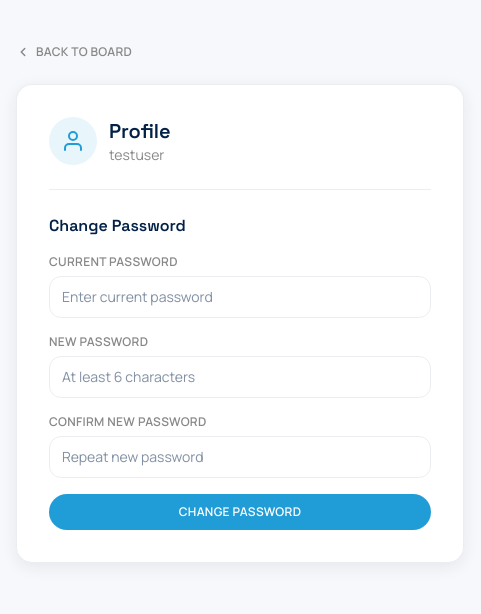
ProfilePage › shows error when new password is too short
This screenshot has width=481, height=614.
Step 1. Type "oldpass" into the password field with test id "current-password-input" → (240, 296), box [49,276,431,318]
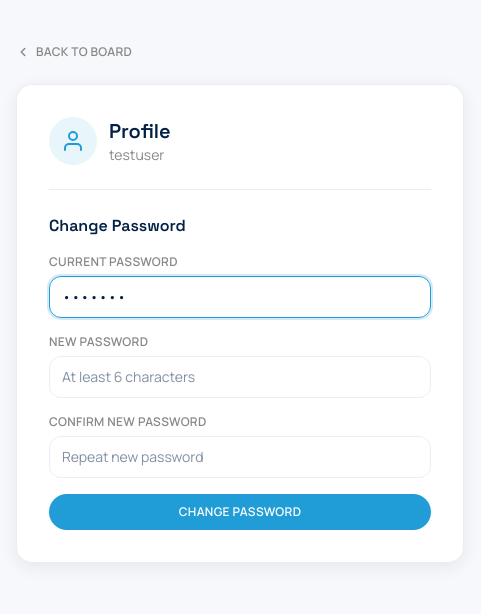
Step 2. Type "abc" into the password field with test id "new-password-input" → (240, 376), box [49,356,431,398]
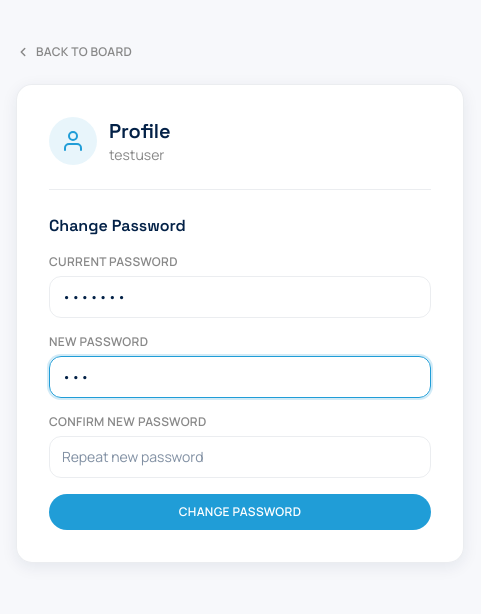
Step 3. Type "abc" into the password field with test id "confirm-password-input" → (240, 456), box [49,436,431,478]
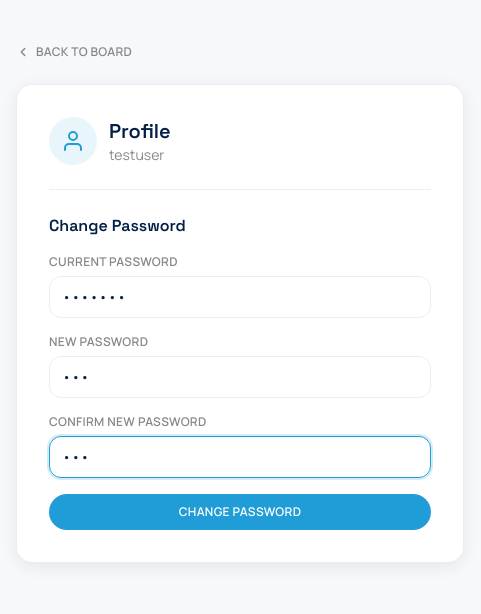
Step 4. Click the button with test id "change-password-btn" → (240, 512), box [49,494,431,530]
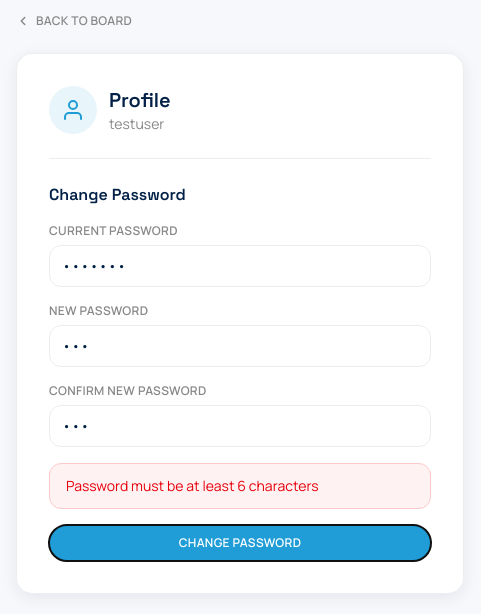
Check: the text with test id "profile-error" shows "6 characters", box [66,476,319,494]
